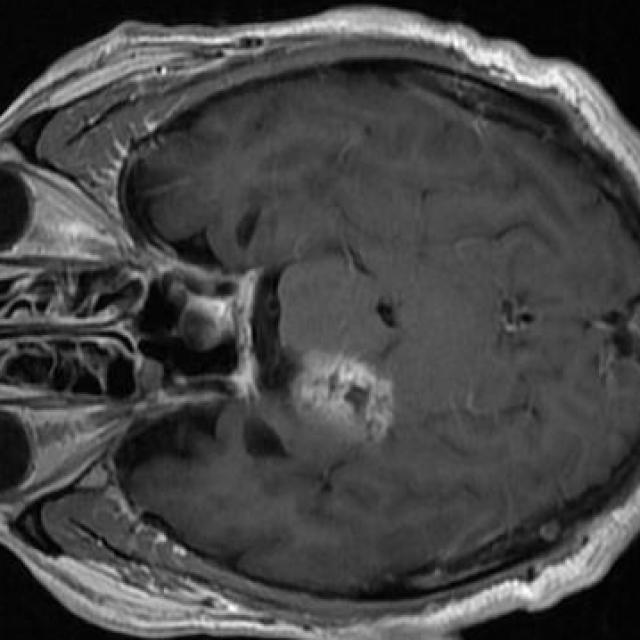meningioma: (296, 351, 394, 442)
